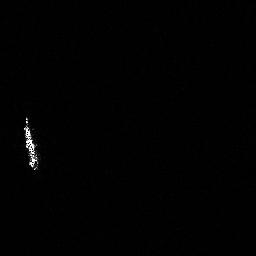ship: (19, 114, 42, 173)
